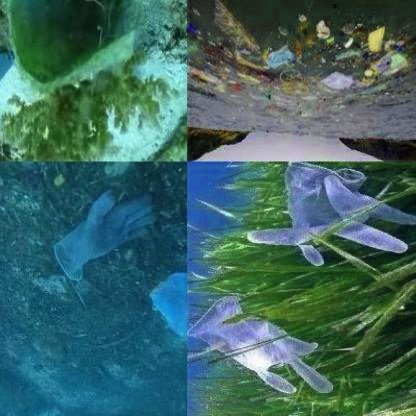Mask: (8, 0, 141, 95), (147, 249, 186, 356), (265, 44, 295, 70)
glove: (241, 163, 409, 266), (188, 293, 346, 398), (35, 178, 167, 274)
